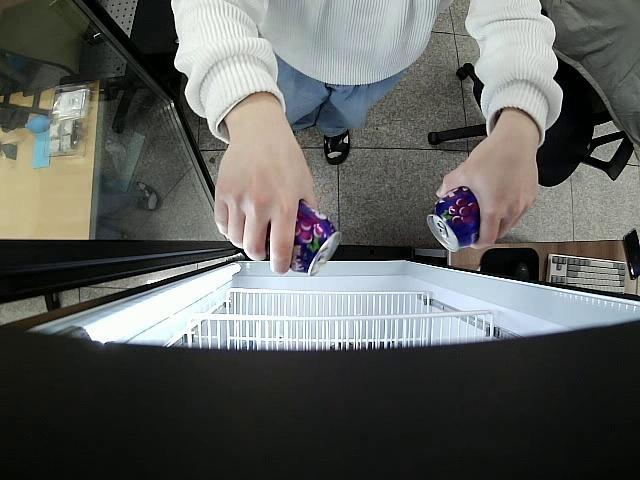14_welchsGrape: (266, 198, 344, 274), (425, 187, 481, 251)
